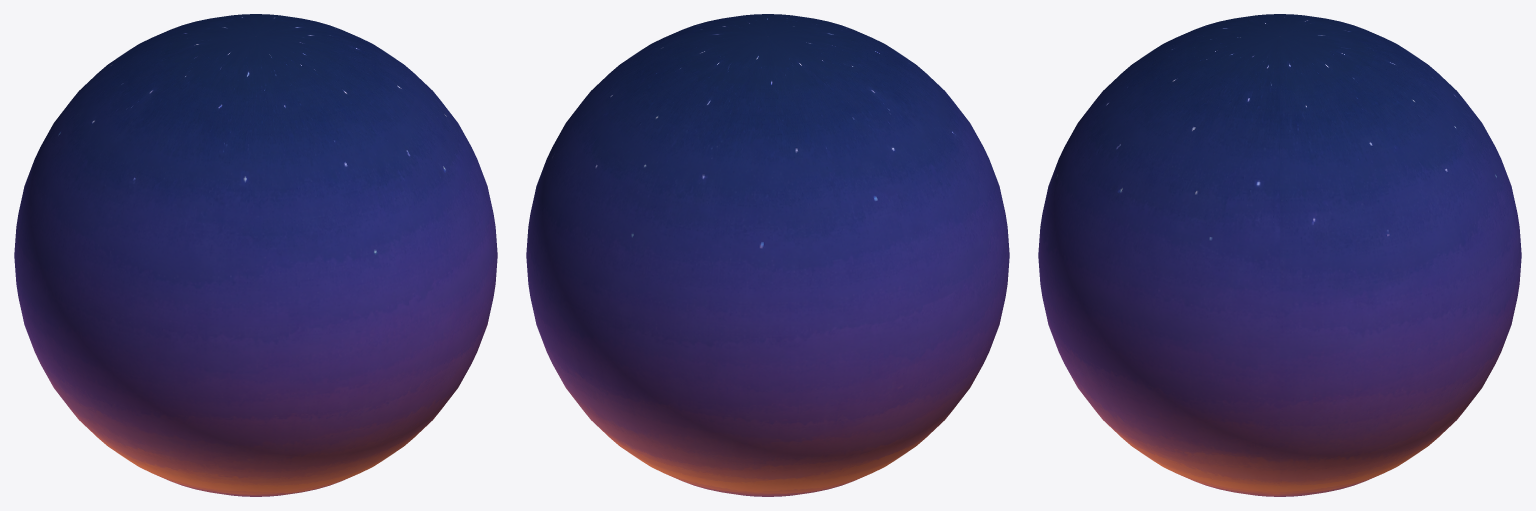
Rendered from prism_dusk_sphere.obj.
The picture shows the model from 3 angles, left to right: view 1: azimuth 30°, elevation 25°; view 2: azimuth 150°, elevation 25°; view 3: azimuth 270°, elevation 25°; orthographic projection.
Parts seen in each view (by area): view 1: PrismDuskSkySphere; view 2: PrismDuskSkySphere; view 3: PrismDuskSkySphere.
Part boxes in pixels (left/top/right/bottom): PrismDuskSkySphere: left=14, top=14, right=497, bottom=496; PrismDuskSkySphere: left=526, top=14, right=1009, bottom=496; PrismDuskSkySphere: left=1038, top=14, right=1521, bottom=496.
Size of the model in its own units: 2 by 2 by 2.
Materials: 1 (1 with a texture image).
